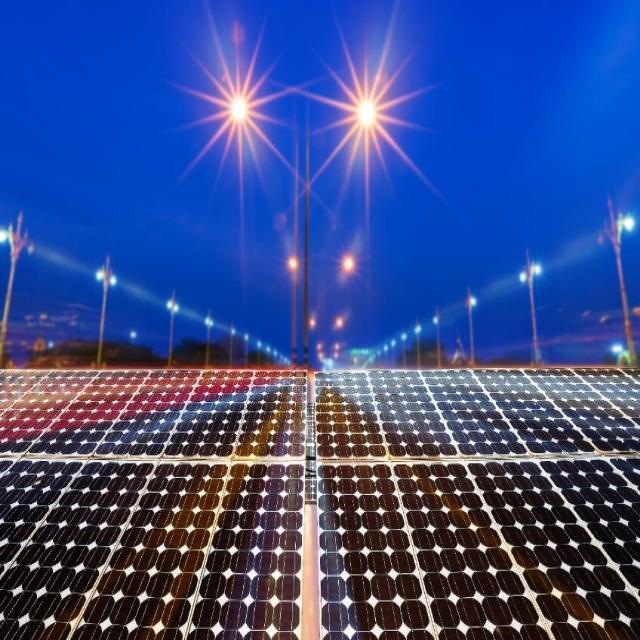clean-solar-panel: (1, 370, 640, 638)
